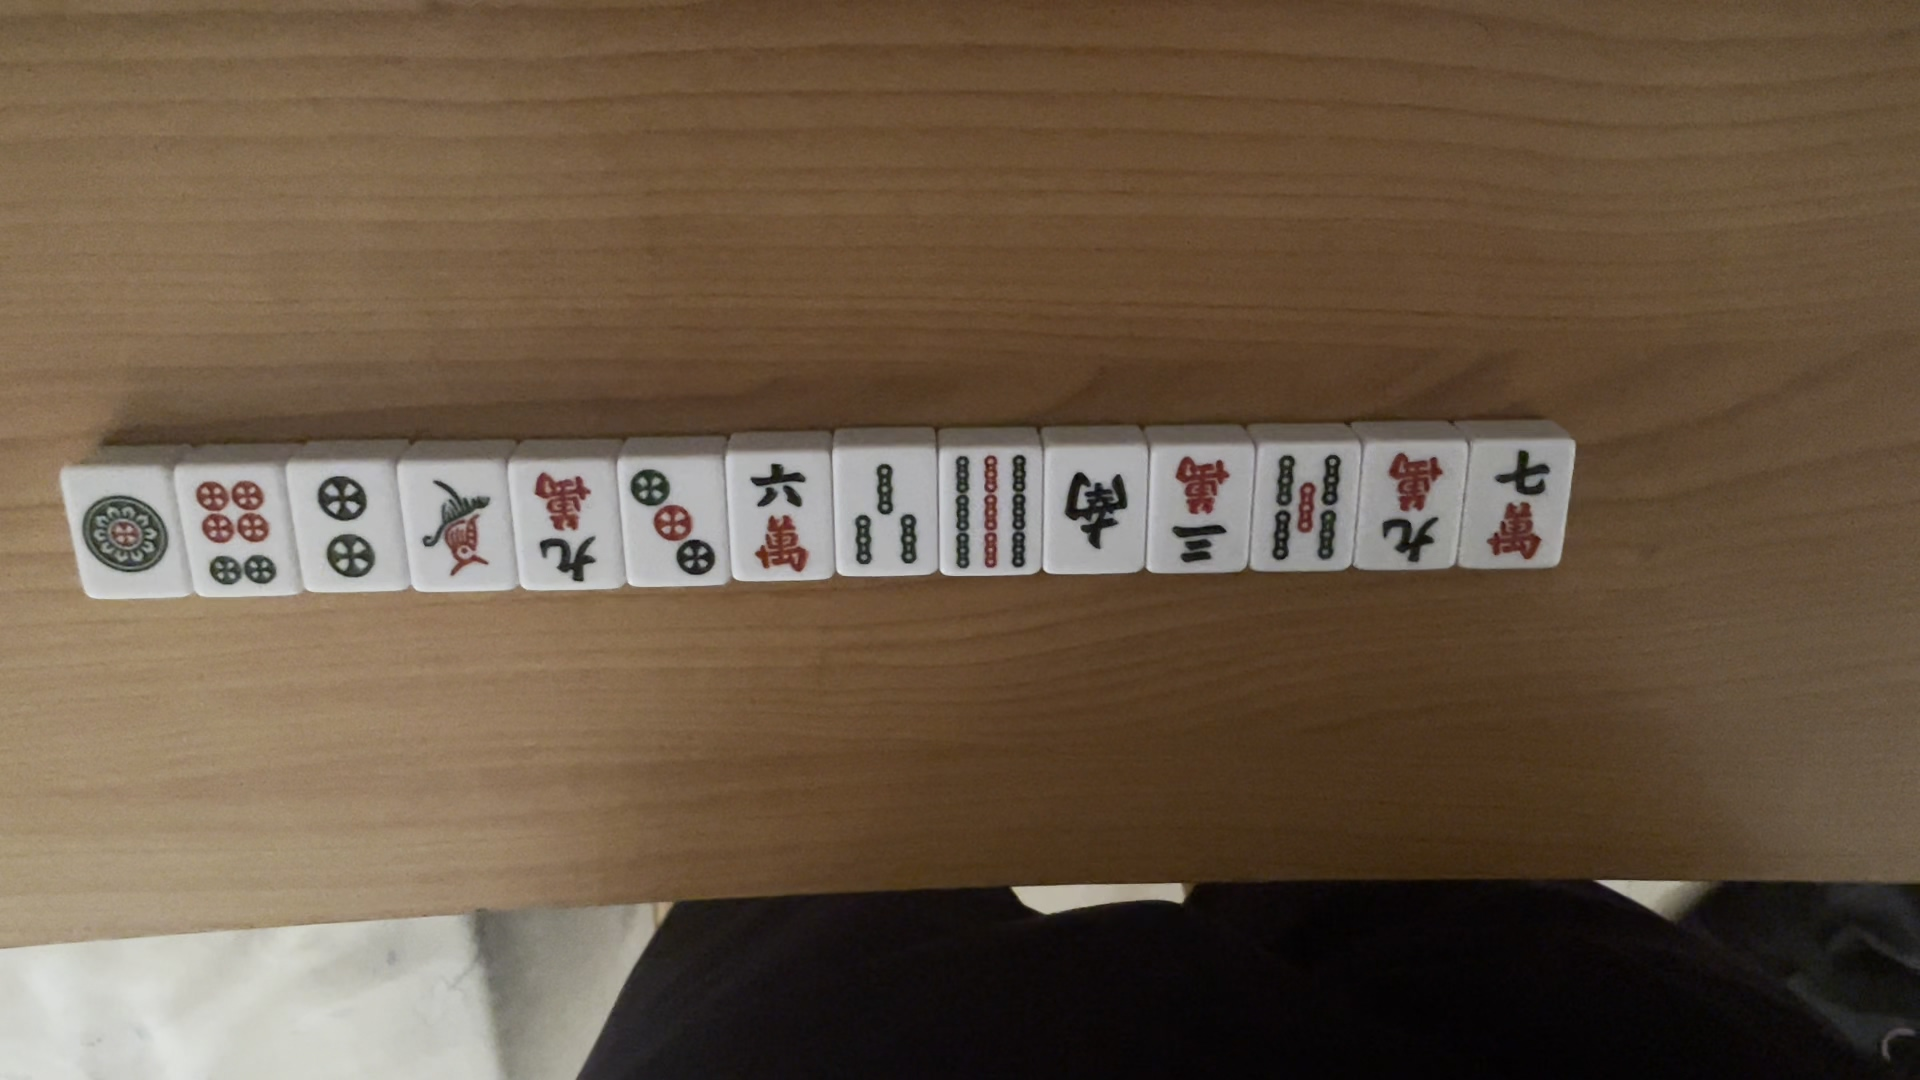b-1: (413, 469, 498, 582)
b-3: (844, 456, 922, 574)
b-5: (1265, 450, 1345, 564)
b-9: (945, 446, 1029, 575)
c-3: (1160, 450, 1241, 567)
c-6: (741, 460, 816, 574)
c-7: (1481, 447, 1552, 563)
c-9: (526, 462, 604, 585), (1377, 451, 1451, 562)
d-1: (76, 479, 171, 585)
d-2: (310, 469, 390, 582)
d-3: (628, 469, 719, 583)
d-6: (185, 475, 287, 593)
honors-south: (1062, 463, 1131, 550)
